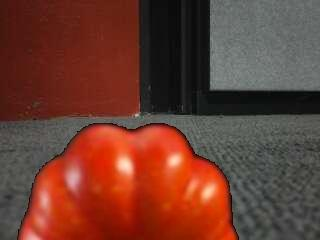Pumpkin: (18, 123, 239, 240)
